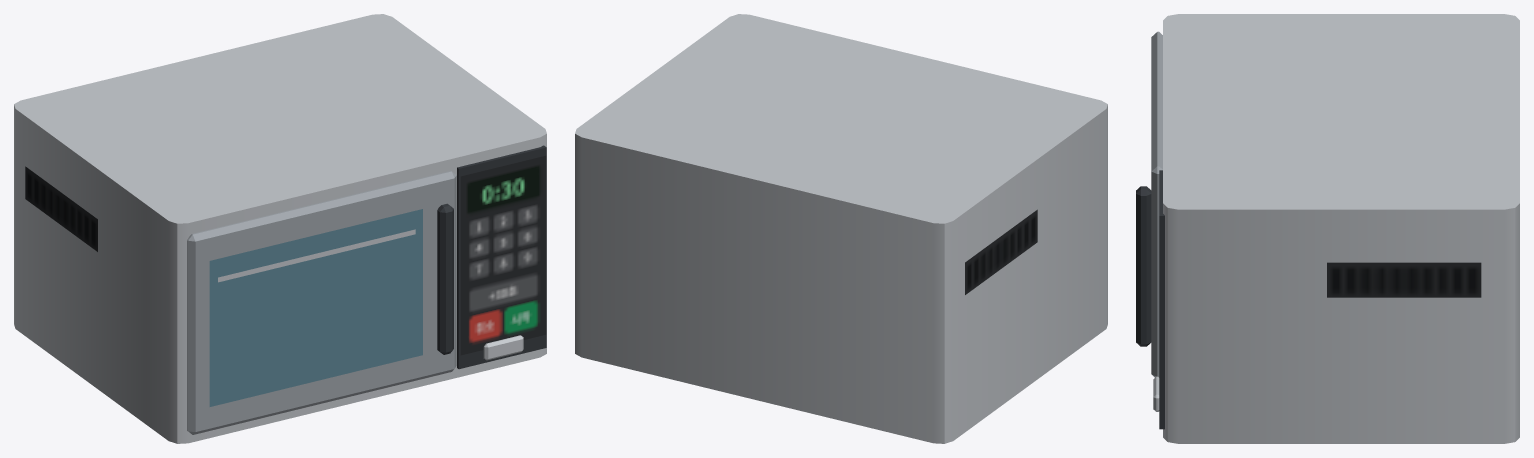
The model's file is SC_Fix_Microwave_Gray.gltf.
3 renders of one model, left to right at view 1: azimuth 30°, elevation 25°; view 2: azimuth 150°, elevation 25°; view 3: azimuth 270°, elevation 25°, orthographic. The views are drawn at different scales.
Parts seen in each view (by area): view 1: SC_Fix_Microwave_Gray; view 2: SC_Fix_Microwave_Gray; view 3: SC_Fix_Microwave_Gray.
Part boxes in pixels (x1,y1,x2,y2): SC_Fix_Microwave_Gray: [14, 14, 546, 443]; SC_Fix_Microwave_Gray: [575, 14, 1107, 443]; SC_Fix_Microwave_Gray: [1136, 14, 1519, 443].
Bounding box in the file's own units: 0.4824 × 0.28 × 0.398.
Materials: 2 (2 with a texture image).
